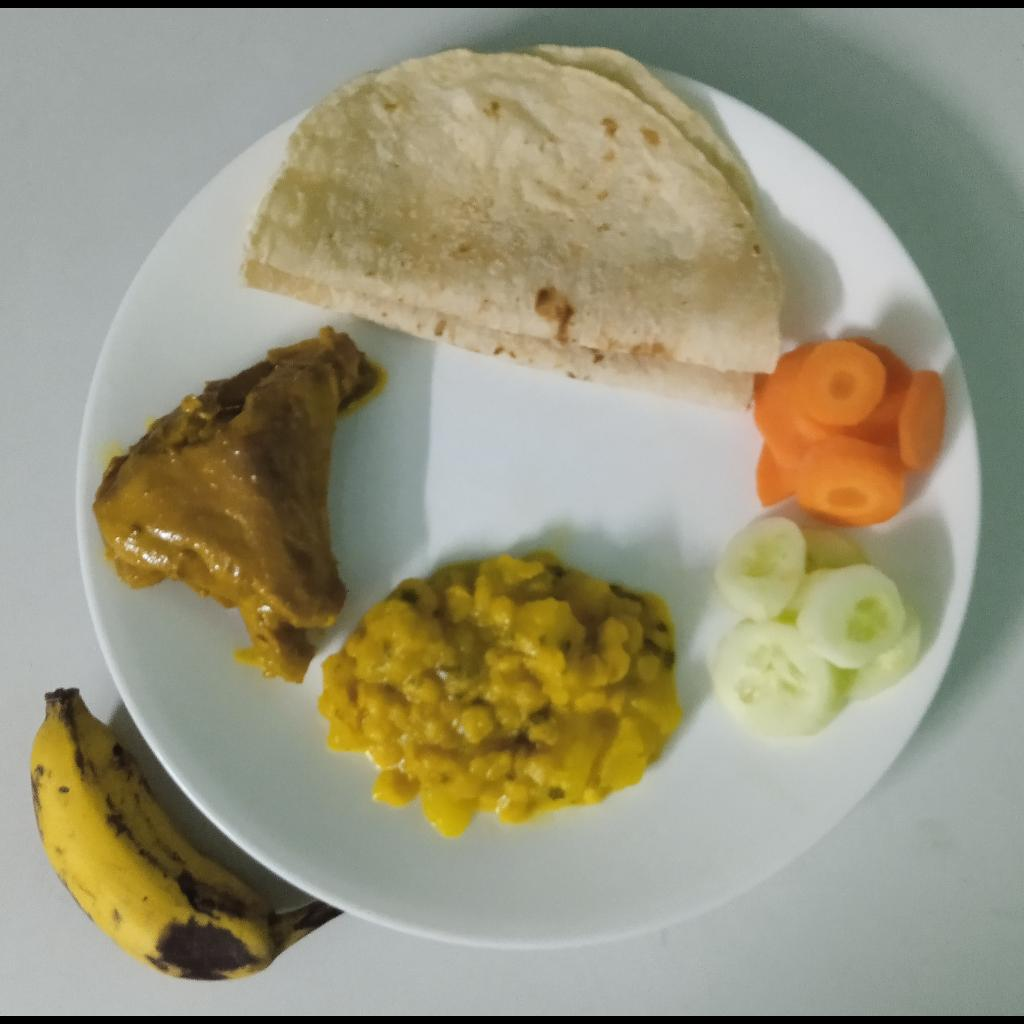banana: (29, 686, 339, 982)
carrot: (755, 337, 945, 526)
chicken: (93, 329, 375, 686)
daal: (314, 553, 686, 836)
ruti: (241, 45, 785, 410)
